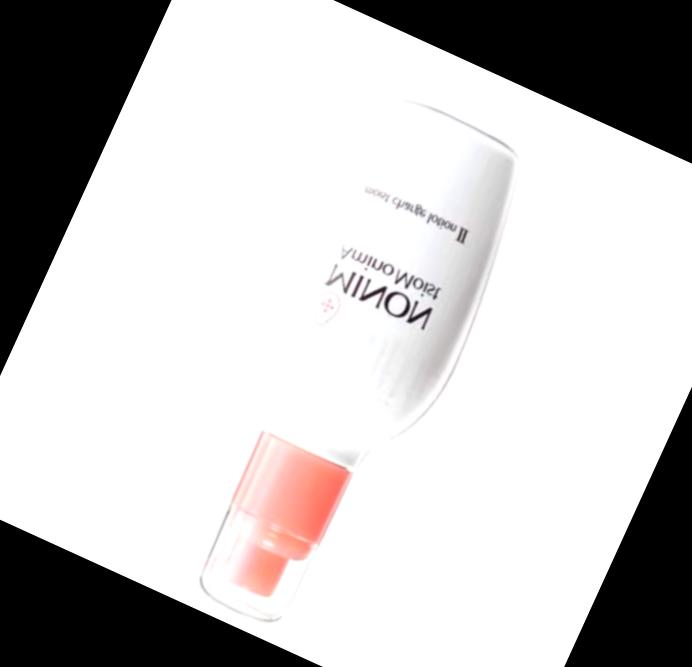cosmetic: (141, 75, 552, 657)
